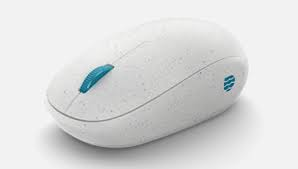mouse: (33, 7, 249, 146)
